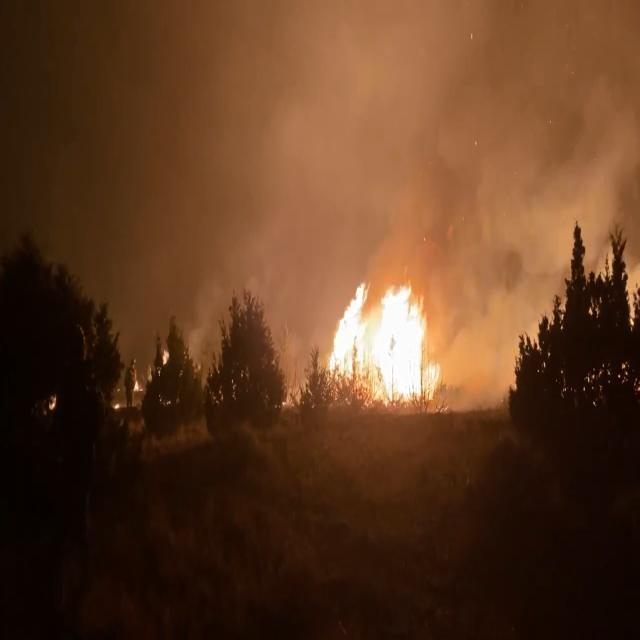Fire: (326, 268, 440, 406)
